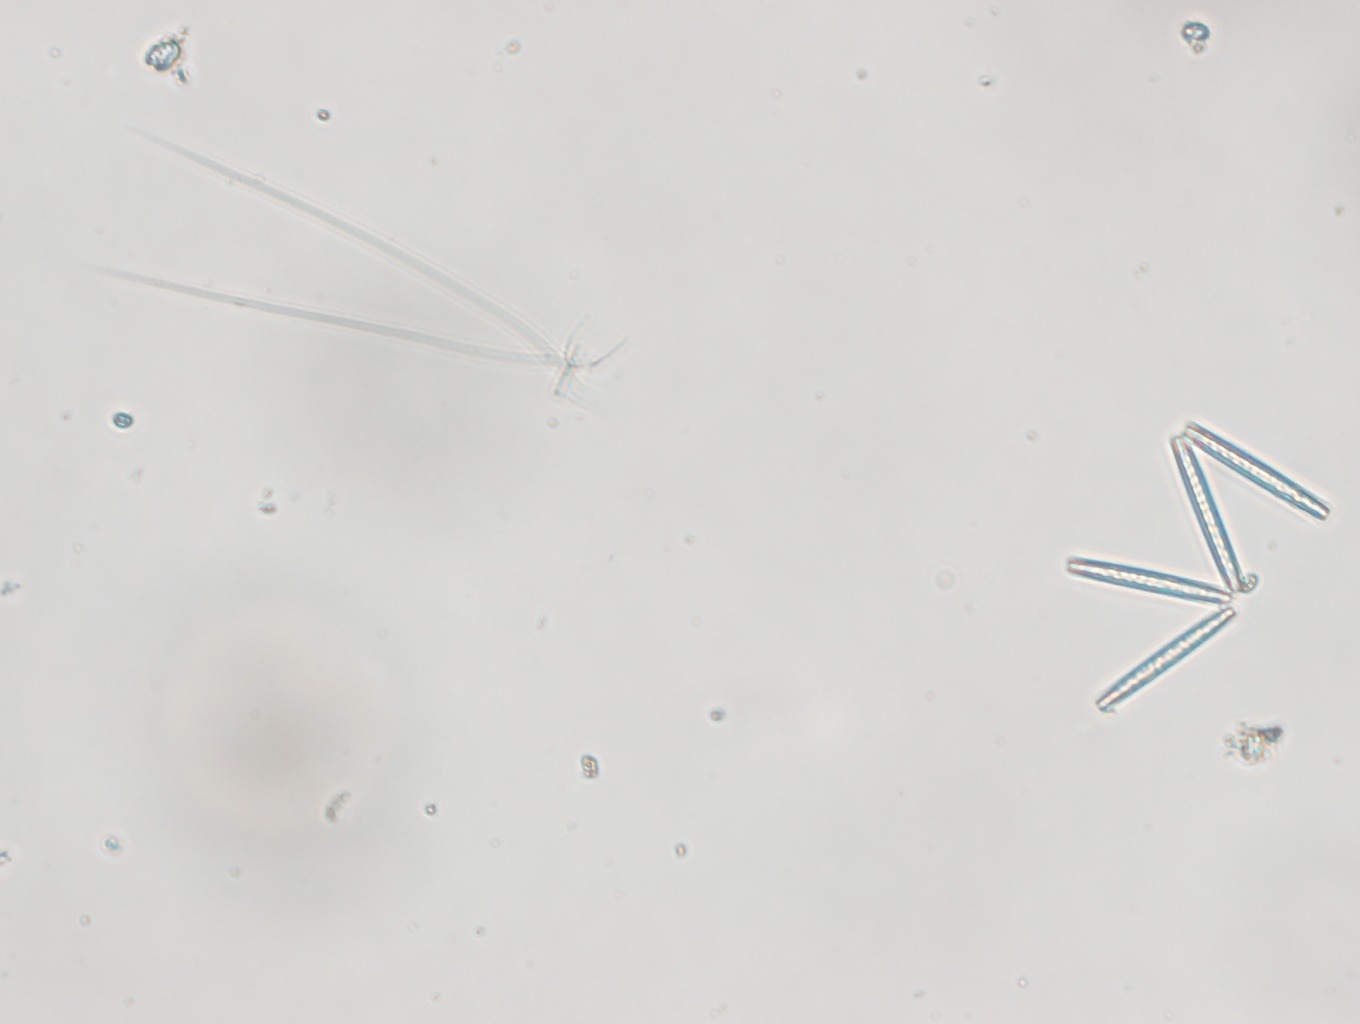chaetoceros: (78, 112, 633, 447)
thalassionema nitzschioides: (1056, 419, 1333, 715)
